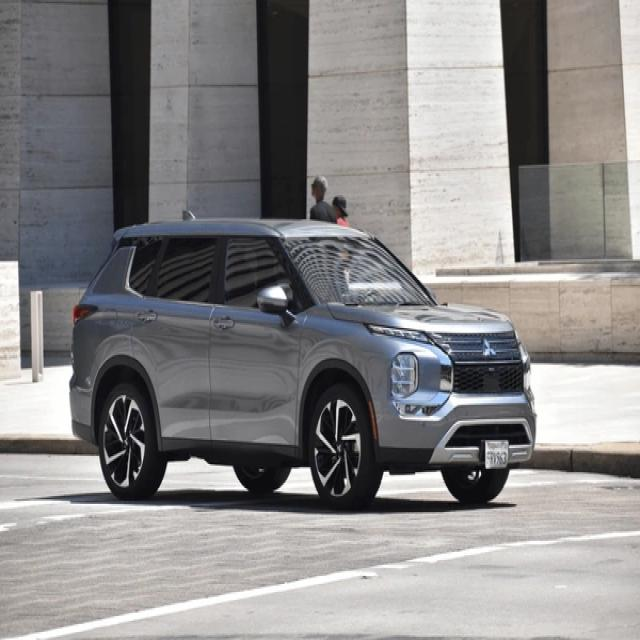mitsubishi: (478, 335, 501, 361)
